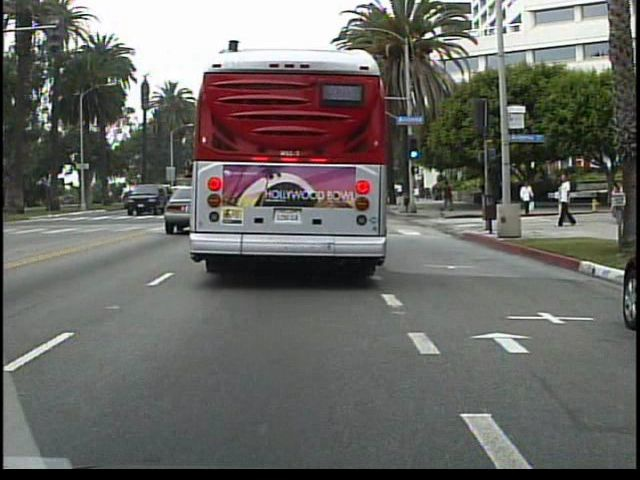person: (557, 169, 578, 226), (519, 178, 538, 217), (441, 176, 457, 216), (496, 178, 513, 214)
